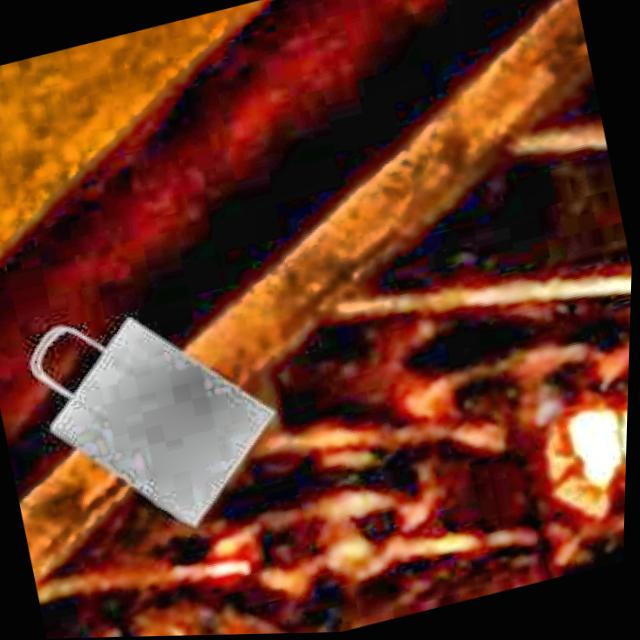Paper-bag: (6, 269, 312, 575)
